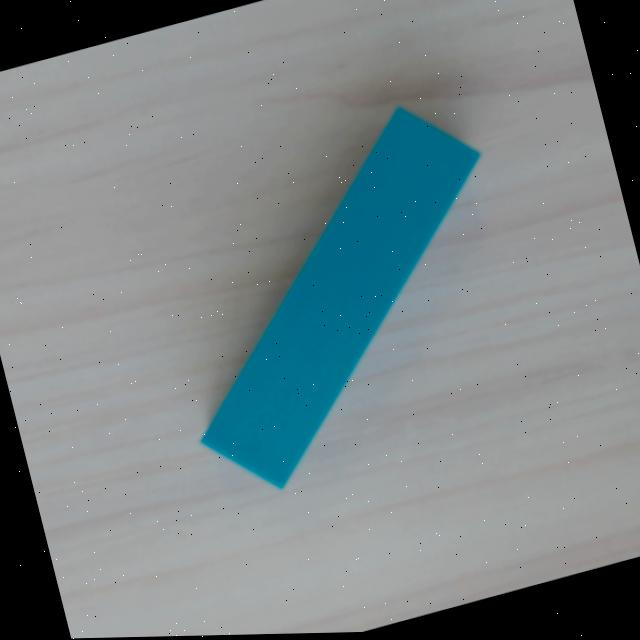Balok-Hijau-1002525: (197, 104, 480, 489)
